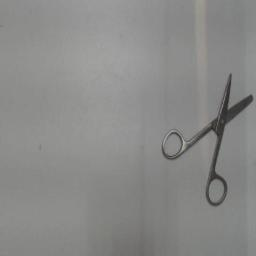Dressing Scissors: (156, 64, 256, 210)
